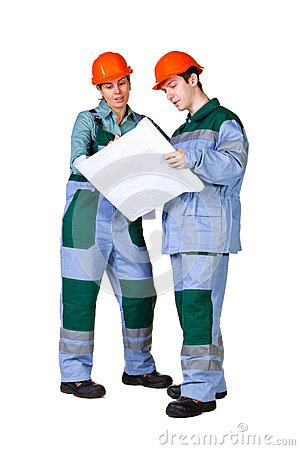helmet: (155, 51, 205, 86), (93, 53, 135, 84)
